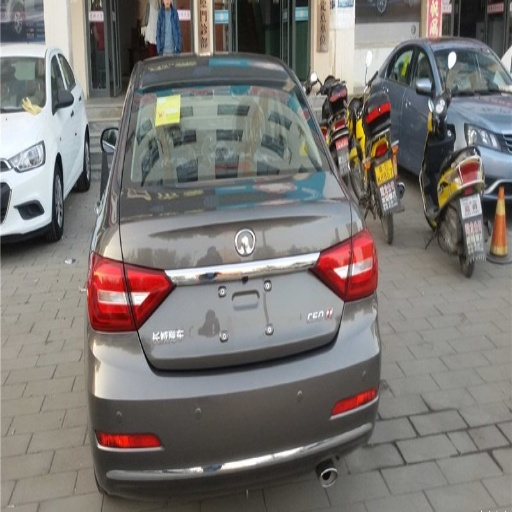back_bumper: (91, 292, 378, 503)
back_left_light: (87, 233, 135, 329)
back_right_door: (383, 43, 413, 129)
tailgate: (100, 175, 349, 366)
trunk: (125, 217, 208, 332)
